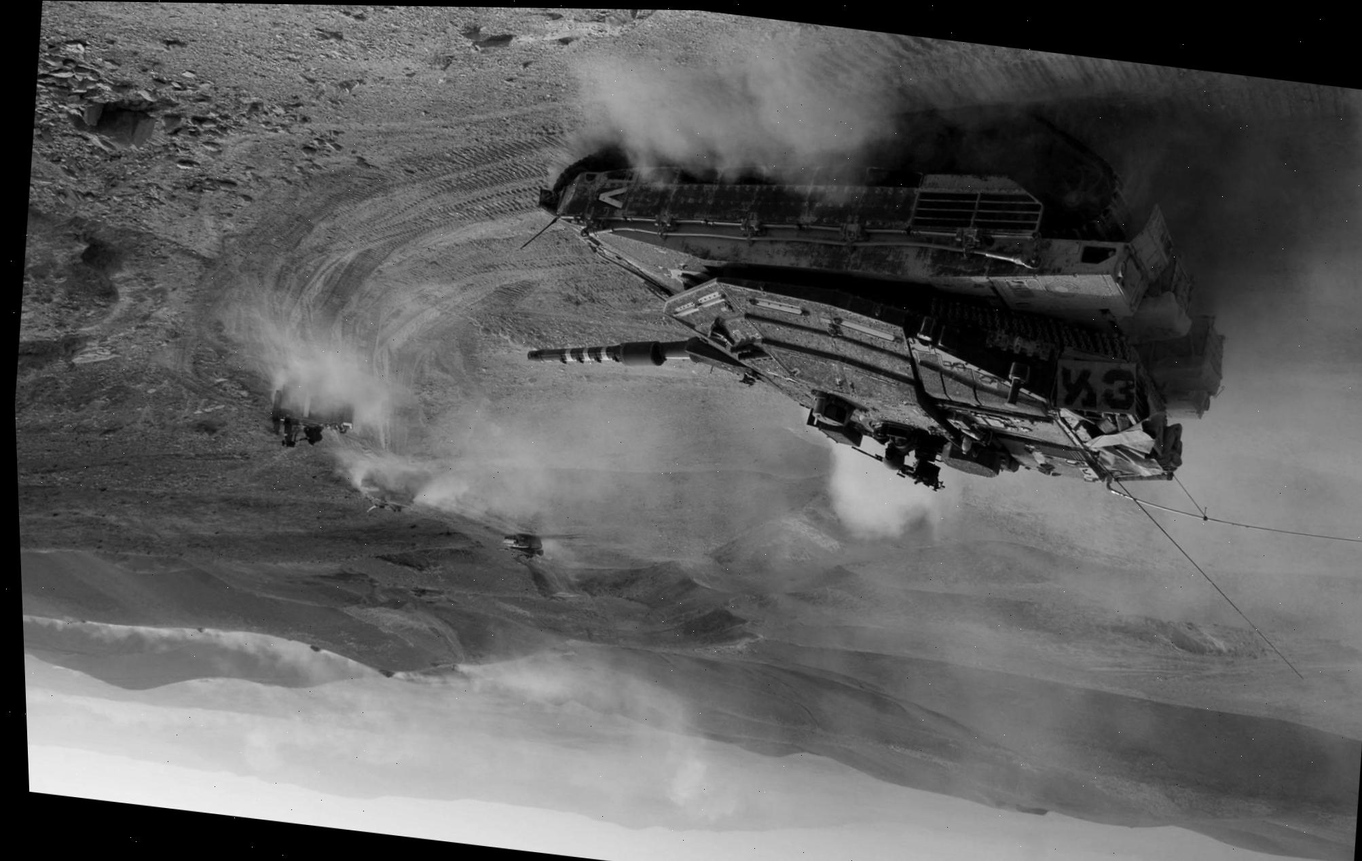tank: (501, 40, 1260, 527), (265, 372, 360, 455), (356, 465, 422, 518), (497, 529, 545, 560)
